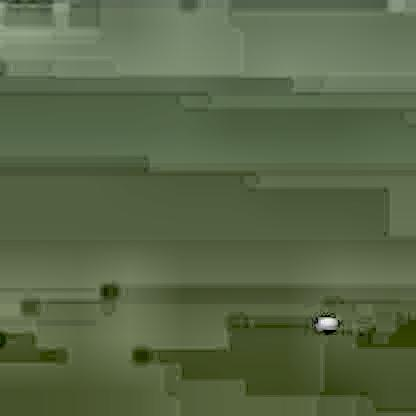golfball: (314, 314, 334, 329)
